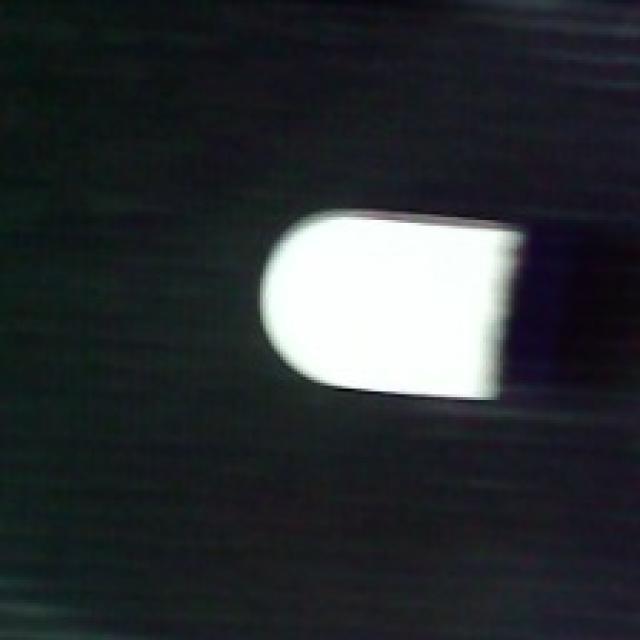defected: (252, 208, 532, 408)
